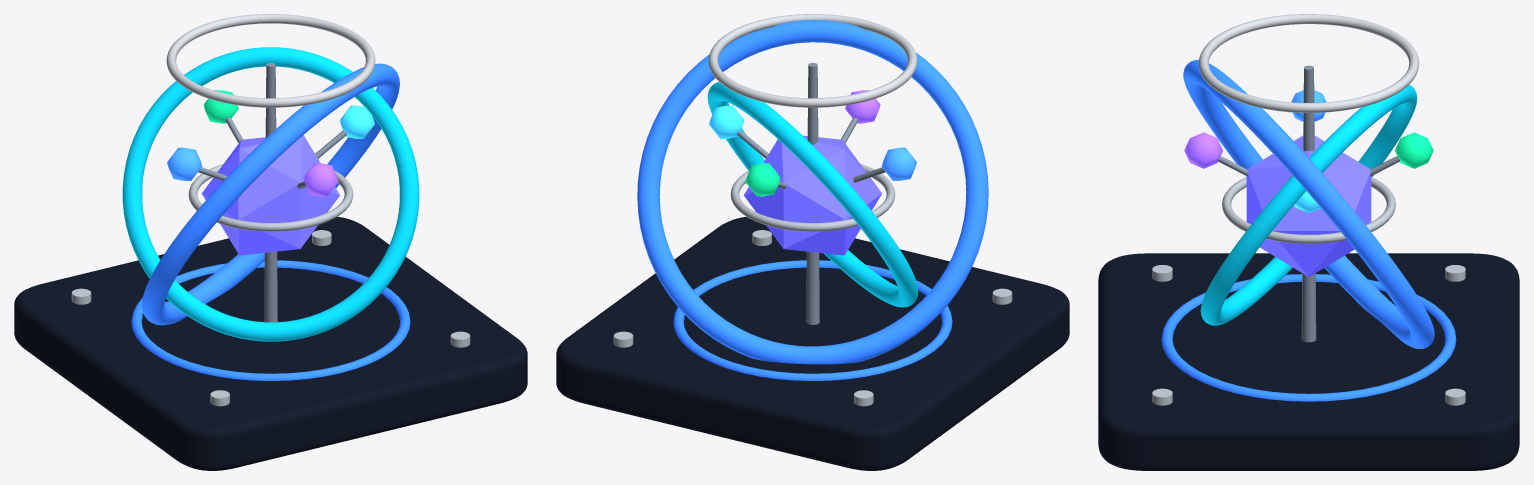
File: minimind-icon.glb
3 renders of one model, left to right at view 1: azimuth 30°, elevation 25°; view 2: azimuth 150°, elevation 25°; view 3: azimuth 270°, elevation 25°, orthographic. The views are drawn at different scales.
Visible parts, largest first — view 1: FrozenBaseSlab_W0, LoRA_Matrix_B, MiniMindAI_Emblem, LoRA_Matrix_A, NF4_NeuralCore, VerificationHalo; view 2: FrozenBaseSlab_W0, LoRA_Matrix_A, MiniMindAI_Emblem, LoRA_Matrix_B, NF4_NeuralCore, VerificationHalo; view 3: FrozenBaseSlab_W0, MiniMindAI_Emblem, LoRA_Matrix_A, LoRA_Matrix_B, NF4_NeuralCore, VerificationHalo.
Part boxes in pixels (<box>): FrozenBaseSlab_W0: <box>14,217,527,470</box>; LoRA_Matrix_B: <box>122,47,419,341</box>; MiniMindAI_Emblem: <box>71,62,470,406</box>; LoRA_Matrix_A: <box>142,63,399,325</box>; NF4_NeuralCore: <box>202,135,340,255</box>; VerificationHalo: <box>166,14,375,107</box>; FrozenBaseSlab_W0: <box>556,217,1069,470</box>; LoRA_Matrix_A: <box>637,20,988,364</box>; MiniMindAI_Emblem: <box>613,62,1012,406</box>; LoRA_Matrix_B: <box>707,82,918,307</box>; NF4_NeuralCore: <box>743,135,881,255</box>; VerificationHalo: <box>708,14,917,107</box>; FrozenBaseSlab_W0: <box>1098,253,1519,470</box>; MiniMindAI_Emblem: <box>1152,65,1465,405</box>; LoRA_Matrix_A: <box>1183,60,1434,348</box>; LoRA_Matrix_B: <box>1200,85,1417,325</box>; NF4_NeuralCore: <box>1246,135,1371,276</box>; VerificationHalo: <box>1198,14,1419,112</box>.
Size of the model in its own units: 1.84 by 1.57 by 1.84.
